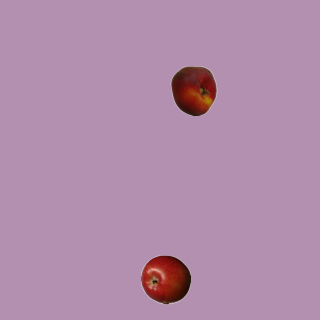Apple Braeburn: (140, 254, 190, 304)
Nectarine Flat: (168, 65, 218, 115)
